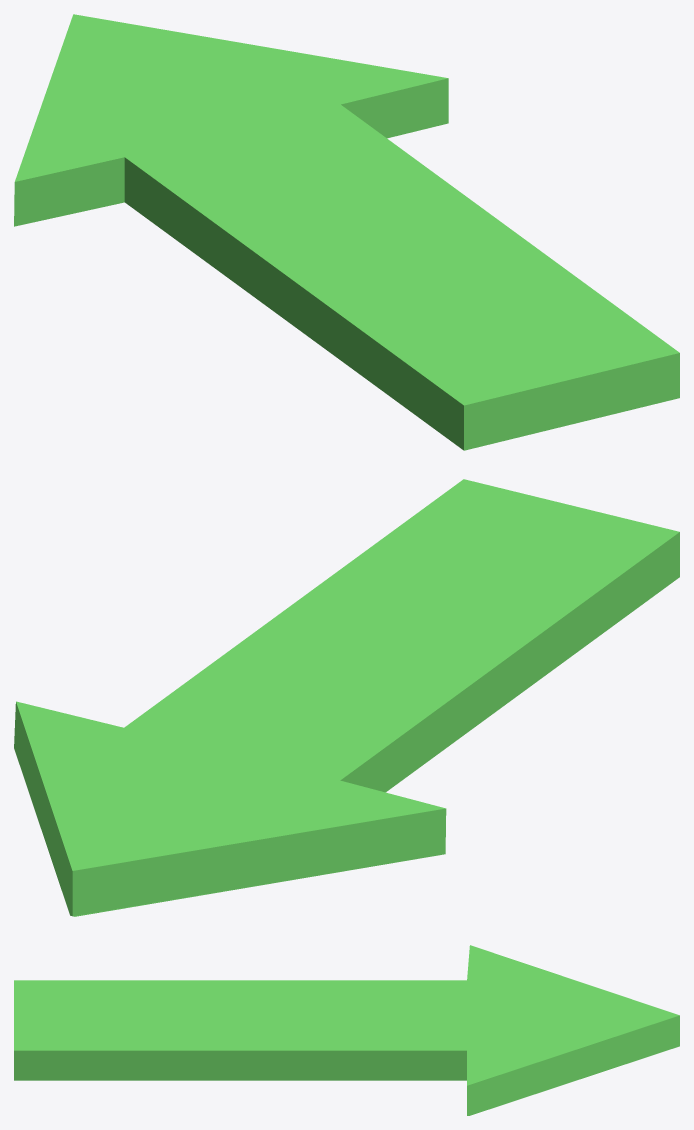
The model's file is ArrowHead.fbx.
3 views of the same model, one above another, from view 1: azimuth 30°, elevation 25°; view 2: azimuth 150°, elevation 25°; view 3: azimuth 270°, elevation 25° (orthographic). The views are drawn at different scales.
Visible parts, largest first — view 1: Cube; view 2: Cube; view 3: Cube.
Boxes of the visible parts, x1,y1,x2,y2 form: Cube: (14,14,679,450); Cube: (14,479,679,916); Cube: (14,945,679,1115).
Size of the model in its own units: 200 by 20 by 400.
